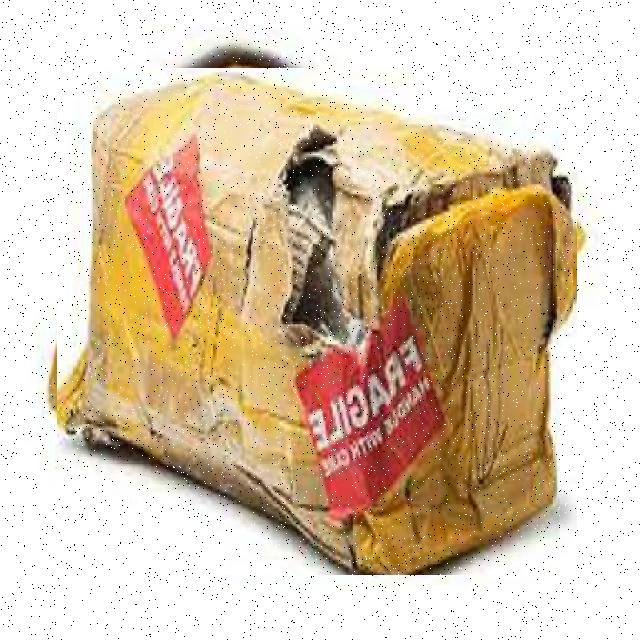defect: (57, 68, 577, 575)
